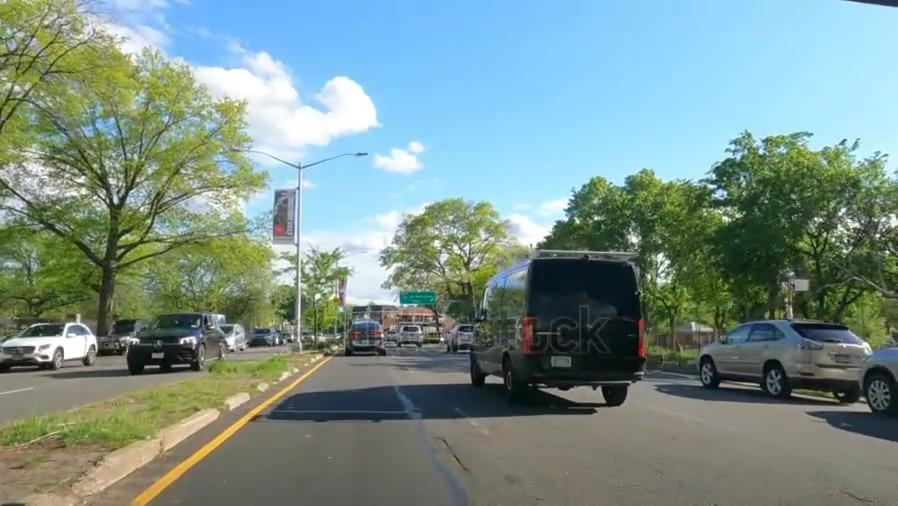car: (697, 325, 858, 395), (135, 315, 221, 367), (2, 326, 95, 367), (345, 319, 382, 357), (97, 321, 135, 353), (221, 322, 247, 353), (445, 327, 469, 352), (397, 324, 421, 347), (252, 327, 275, 346)
road crack: (425, 428, 474, 481)
van: (478, 269, 647, 378)
wheel: (866, 372, 892, 411), (765, 363, 787, 396), (700, 361, 715, 386)
